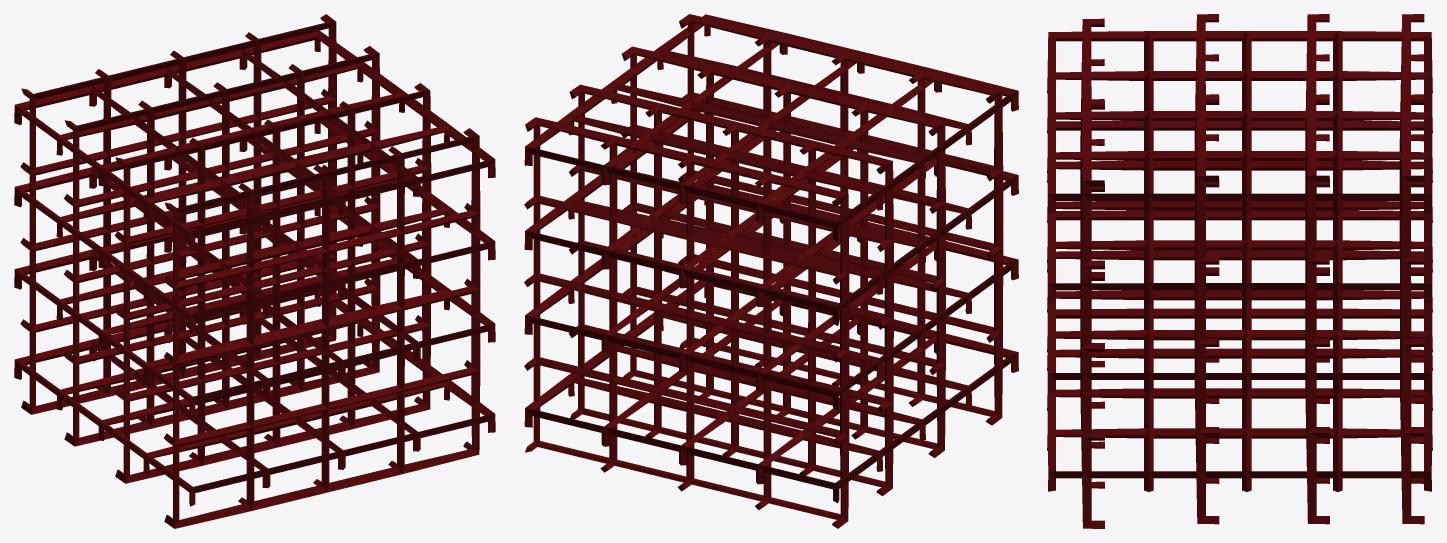
Rendered from scaffolding (1).fbx.
The picture shows the model from 3 angles, left to right: view 1: azimuth 30°, elevation 25°; view 2: azimuth 150°, elevation 25°; view 3: azimuth 270°, elevation 25°; orthographic projection. The views are drawn at different scales.
Parts seen in each view (by area): view 1: Cube.002; view 2: Cube.002; view 3: Cube.002.
Part boxes in pixels (<box>): Cube.002: <box>14,14,495,528</box>; Cube.002: <box>524,14,1018,528</box>; Cube.002: <box>1047,14,1432,528</box>.
Size of the model in its own units: 213 by 215 by 211.
